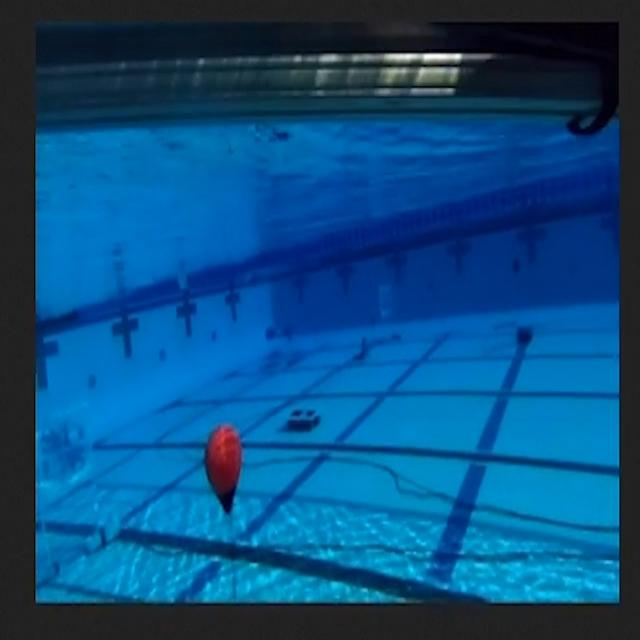Buoy: (203, 412, 248, 527)
